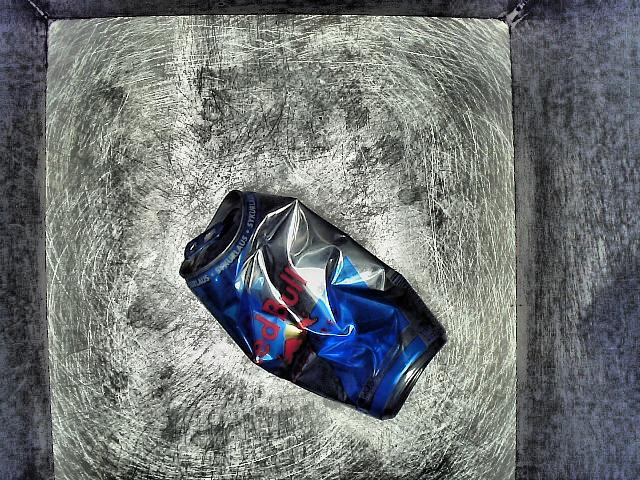Bottles: (168, 155, 456, 425)
